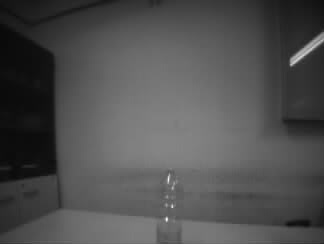Bottle: (154, 167, 182, 244)
